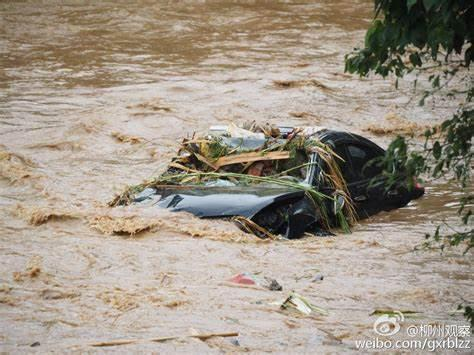water: (0, 0, 473, 353)
